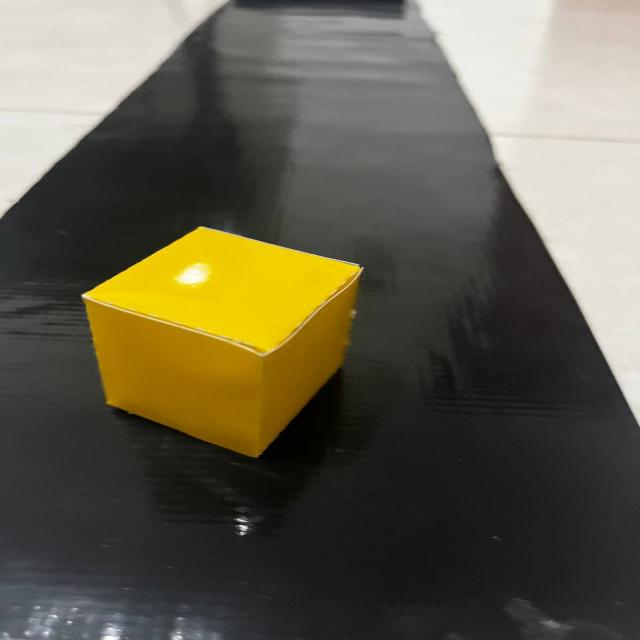Amarillo: (70, 216, 390, 472)
